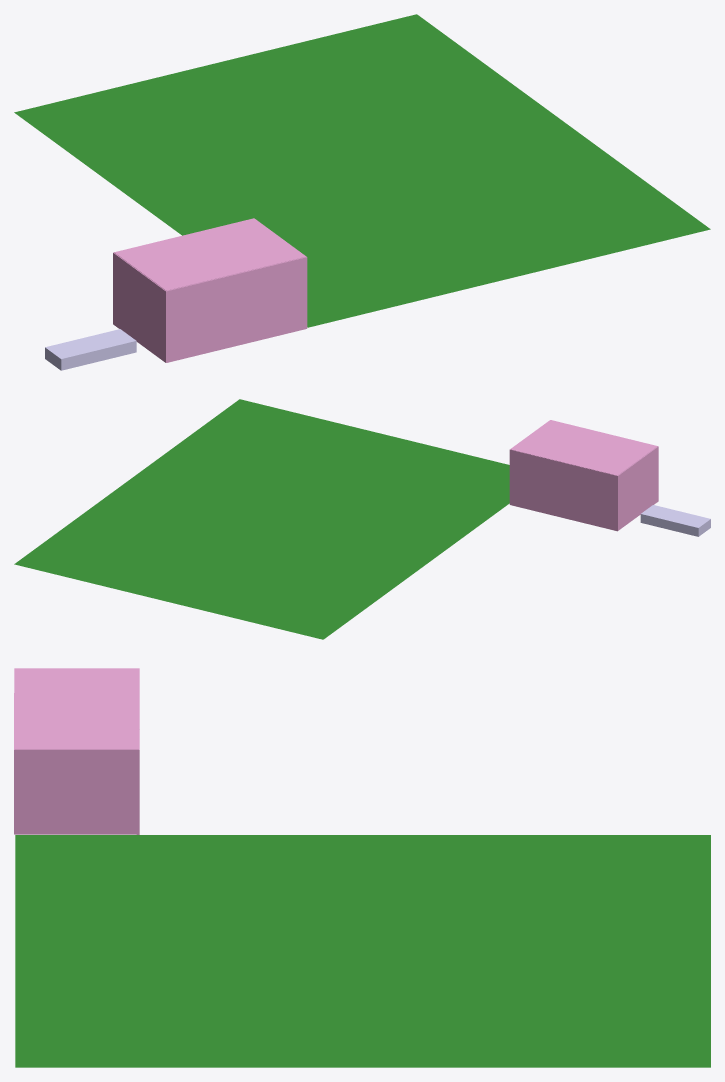
The model's file is extra_Area_Two.dae.
3 renders of one model, top to bottom at view 1: azimuth 30°, elevation 25°; view 2: azimuth 150°, elevation 25°; view 3: azimuth 270°, elevation 25°, orthographic. The views are drawn at different scales.
Parts seen in each view (by area): view 1: Plane, wall4, Cube.009, wall3, counter.001; view 2: Plane, Cube.005, Cube.009, wall3, counter.001; view 3: Plane, wall3.003, Cube.009.
Boxes of the visible parts, x1=… form: Plane: x1=14, y1=14, x2=710, y2=327; wall4: x1=166, y1=257, x2=306, y2=362; Cube.009: x1=114, y1=218, x2=305, y2=290; wall3: x1=113, y1=252, x2=166, y2=362; counter.001: x1=45, y1=329, x2=136, y2=370; Plane: x1=14, y1=399, x2=509, y2=639; Cube.005: x1=510, y1=449, x2=618, y2=531; Cube.009: x1=510, y1=420, x2=657, y2=475; wall3: x1=617, y1=446, x2=658, y2=530; counter.001: x1=640, y1=505, x2=710, y2=536; Plane: x1=15, y1=835, x2=710, y2=1067; wall3.003: x1=14, y1=749, x2=139, y2=834; Cube.009: x1=15, y1=668, x2=139, y2=749.
Size of the model in its own units: 28.64 by 23.13 by 3.13.
